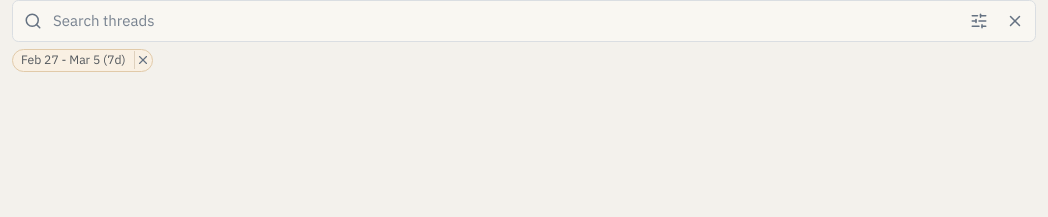
Test: IntegratedSearchBar › derives quick-range preset from UTC calendar day
What coordinates should you click on to do the following:
click the button named "Filters"
I would click on:
 (979, 21)
Its box is [963,5,995,37].
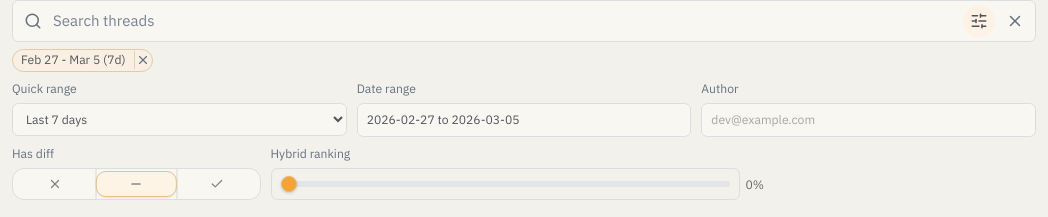
Expected: the dropdown labelled "Quick range" shows "Last 7 days", [12,103,347,136]
